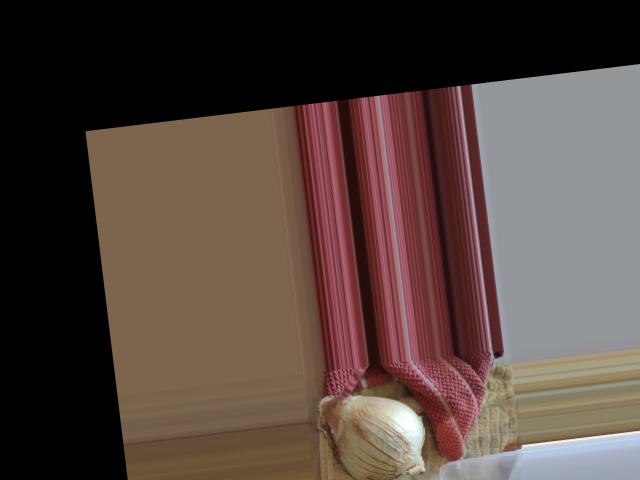onion: (318, 384, 429, 480)
